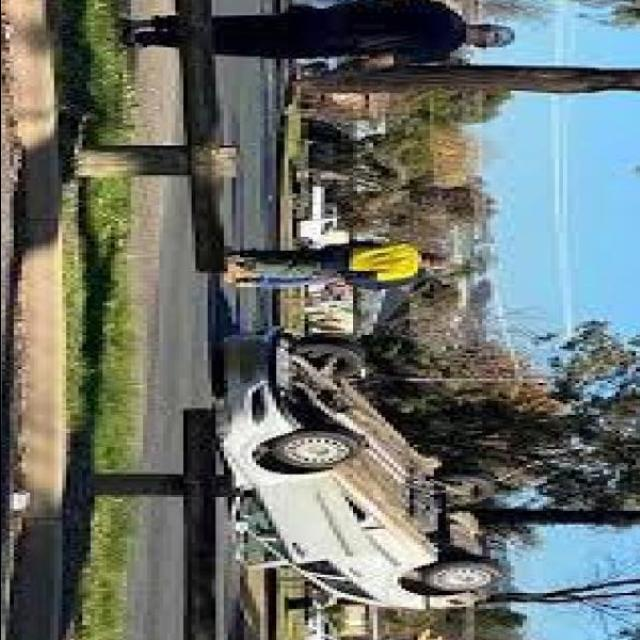accident: (233, 325, 515, 617)
